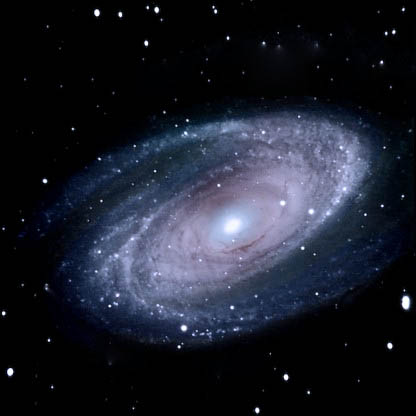Messier 81: (26, 94, 416, 352)
